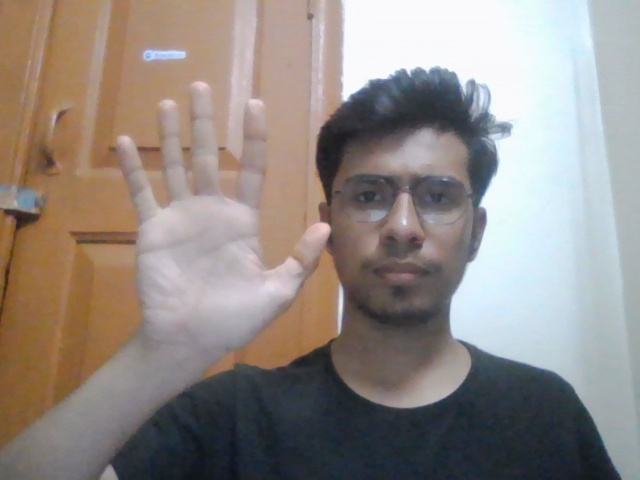Hello: (101, 70, 336, 364)
